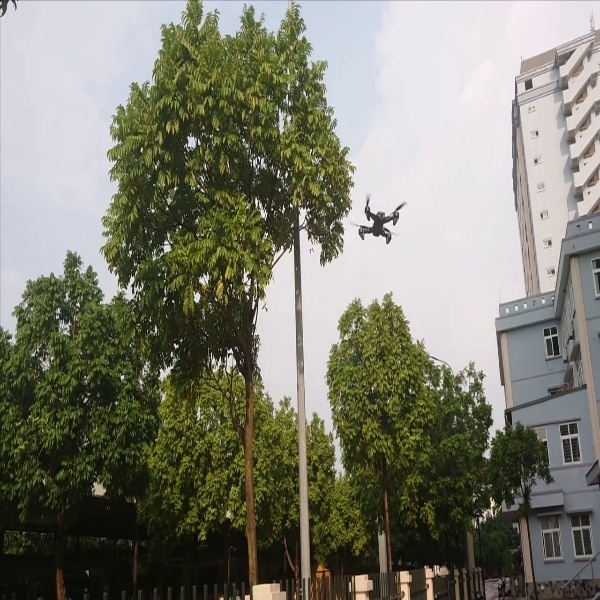drone: (346, 186, 414, 249)
